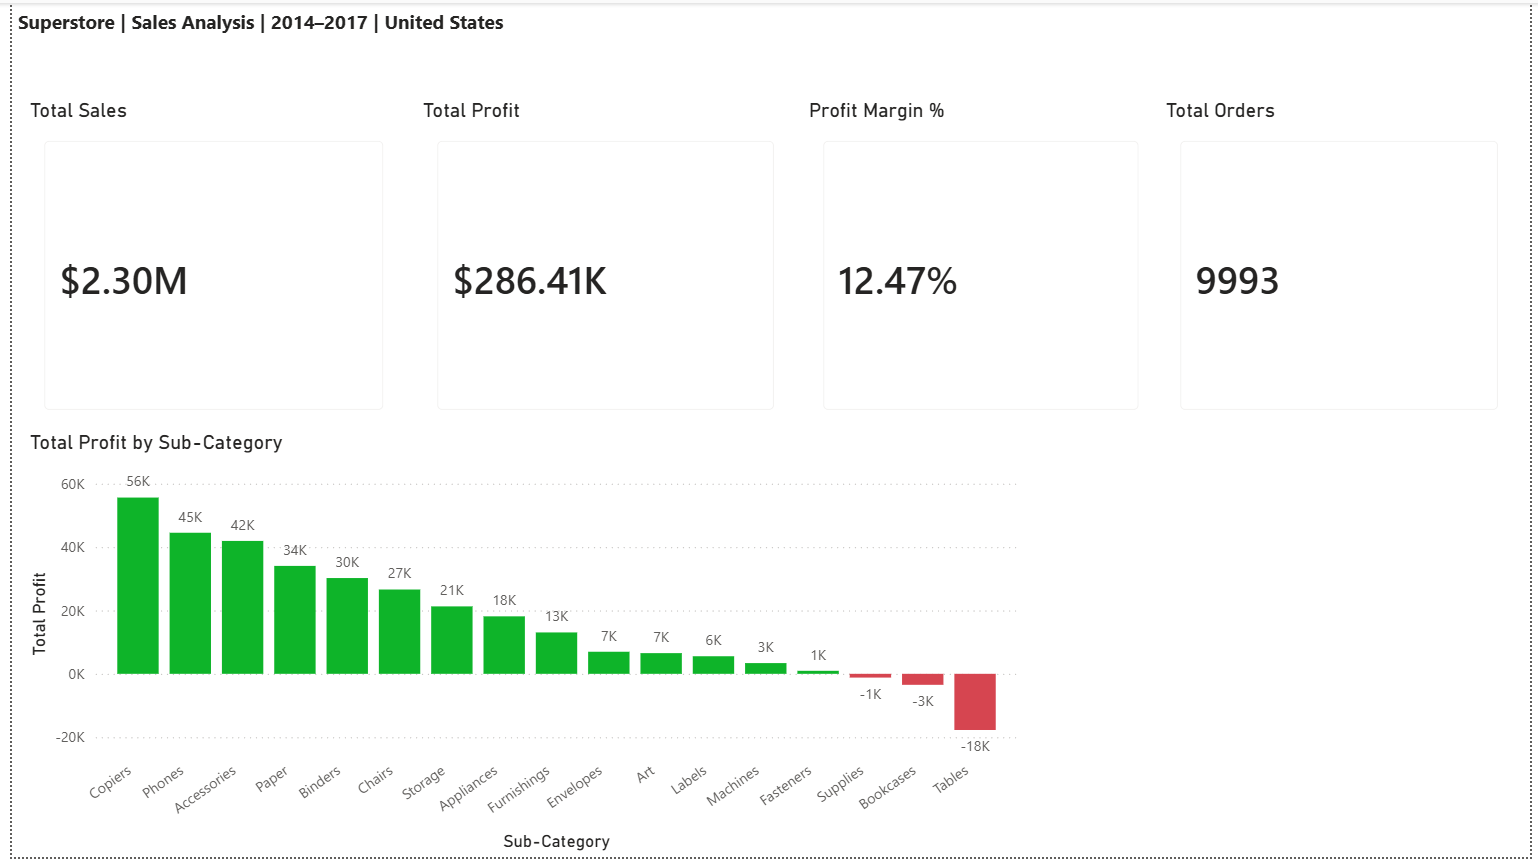

The dashboard page shown, as its layout file describes it:
{"tool":"powerbi","page":{"name":"Overview","canvas":[1280,720],"ordinal":0},"visuals":[{"type":"cardVisual","title":"Total Sales","fields":{"Data":["Sum(RawData.Sales)"]},"box":[9.7,79.8,320,280.1],"z":0},{"type":"cardVisual","title":"Profit Margin %","fields":{"Data":["RawData.Profit Margin %"]},"box":[667.2,79.8,300.5,280.1],"z":1000},{"type":"cardVisual","title":"Total Orders","fields":{"Data":["CountNonNull(RawData.Quantity)"]},"box":[967.8,79.8,302.5,280.1],"z":2000},{"type":"cardVisual","title":"Total Profit","fields":{"Data":["Sum(RawData.Profit)"]},"box":[341.4,79.8,318.1,280.1],"z":3000},{"type":"clusteredColumnChart","title":"Total Profit by Sub-Category","fields":{"Category":["RawData.Sub-Category"],"Y":["Sum(RawData.Profit)"]},"box":[9.7,359.9,842.3,359.9],"z":4000},{"type":"textbox","box":[0,0,481.5,79.8],"z":5000}]}

Visuals, with their boxes in screenshot pixels (x1, y1, x2, y2), scaled from the page's 1280x720 canvas onto the 1538x861 screenshot:
"Total Sales" cardVisual: [x1=12, y1=95, x2=396, y2=430]
"Profit Margin %" cardVisual: [x1=802, y1=95, x2=1163, y2=430]
"Total Orders" cardVisual: [x1=1163, y1=95, x2=1526, y2=430]
"Total Profit" cardVisual: [x1=410, y1=95, x2=792, y2=430]
"Total Profit by Sub-Category" clusteredColumnChart: [x1=12, y1=430, x2=1024, y2=860]
textbox: [x1=0, y1=0, x2=579, y2=95]
